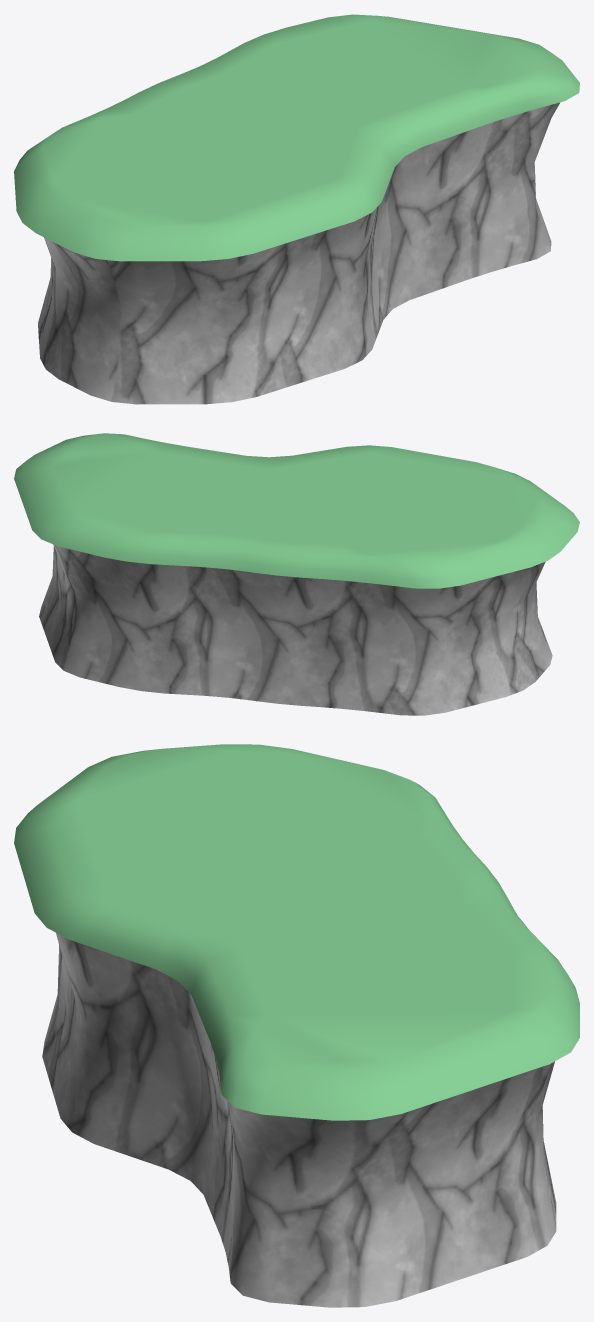
Rendered from LayeredTerrain.fbx.
The picture shows the model from 3 angles, top to bottom: view 1: azimuth 30°, elevation 25°; view 2: azimuth 150°, elevation 25°; view 3: azimuth 270°, elevation 25°; orthographic projection. The views are drawn at different scales.
Parts seen in each view (by area): view 1: Vert; view 2: Vert; view 3: Vert.
Boxes of the visible parts, x1=… form: Vert: x1=14, y1=14, x2=579, y2=404; Vert: x1=14, y1=433, x2=579, y2=715; Vert: x1=14, y1=744, x2=579, y2=1307.
Size of the model in its own units: 5888 by 1724 by 3813.
